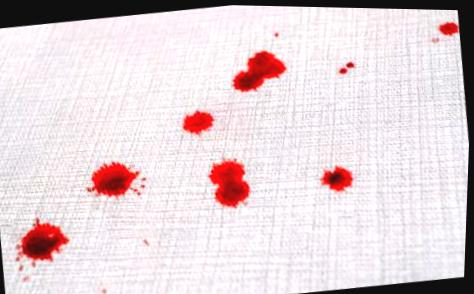Fire: (17, 217, 73, 265), (233, 48, 288, 91), (209, 154, 253, 207), (87, 159, 143, 198), (322, 162, 356, 189), (183, 108, 216, 133), (438, 18, 460, 33), (339, 65, 350, 71), (346, 59, 355, 65)
